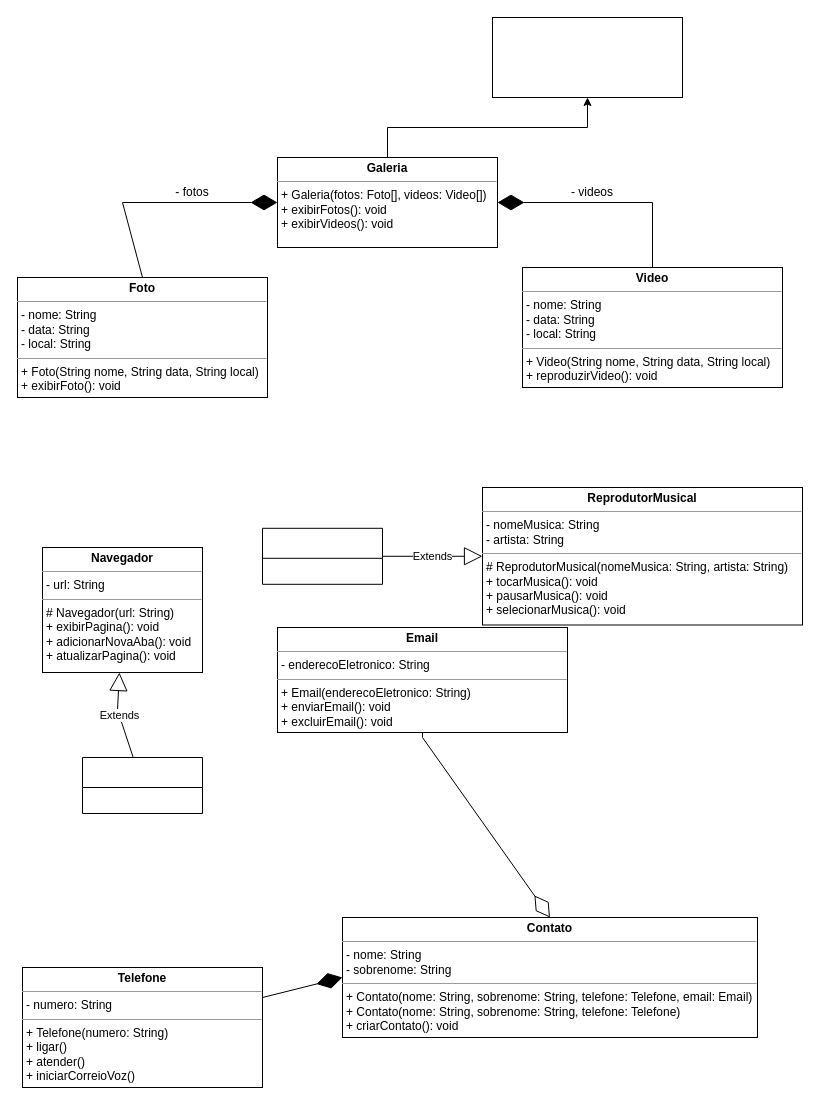
This 820x1105 diagram has some shape labels left out. Here are the shapes that lost their labels. From the top down, the centre of each, then its label:
At pixel 587 57: "Camera + tirarFoto(): void + gravarVideo(): void".
At pixel 322 555: "Itunes".
At pixel 142 785: "Safari".
